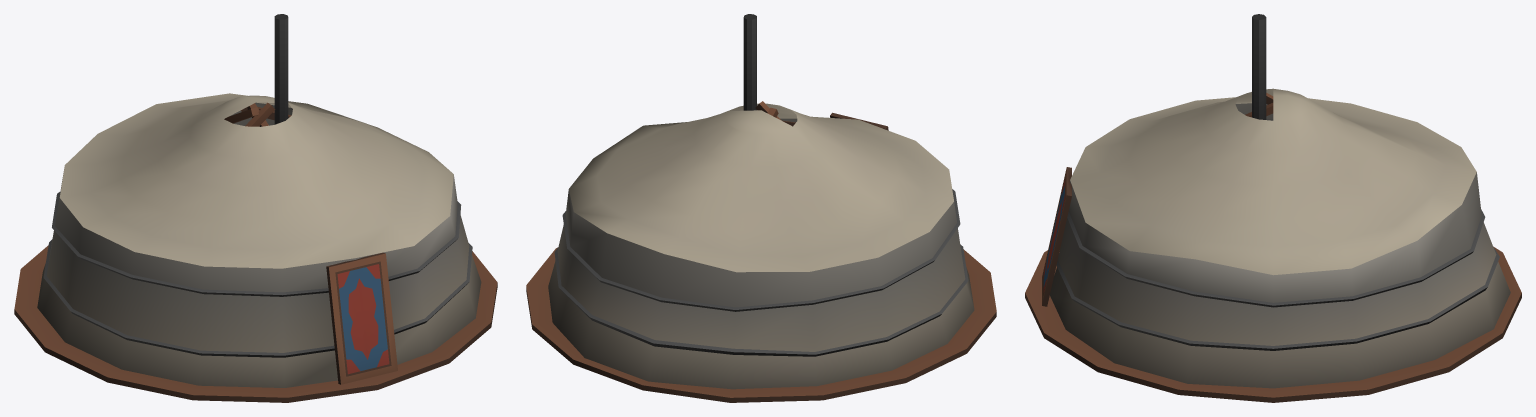
File: buildings-tents-yurt_v2.glb
3 views of the same model, side by side, from view 1: azimuth 30°, elevation 25°; view 2: azimuth 150°, elevation 25°; view 3: azimuth 270°, elevation 25° (orthographic). The views are drawn at different scales.
Parts seen in each view (by area): view 1: Yurt_v2; view 2: Yurt_v2; view 3: Yurt_v2.
Part boxes in pixels (x1,y1,x2,y2): Yurt_v2: [14, 14, 497, 402]; Yurt_v2: [526, 14, 996, 402]; Yurt_v2: [1025, 14, 1521, 402].
Bounding box in the file's own units: 14.2 × 9.15 × 14.2.
